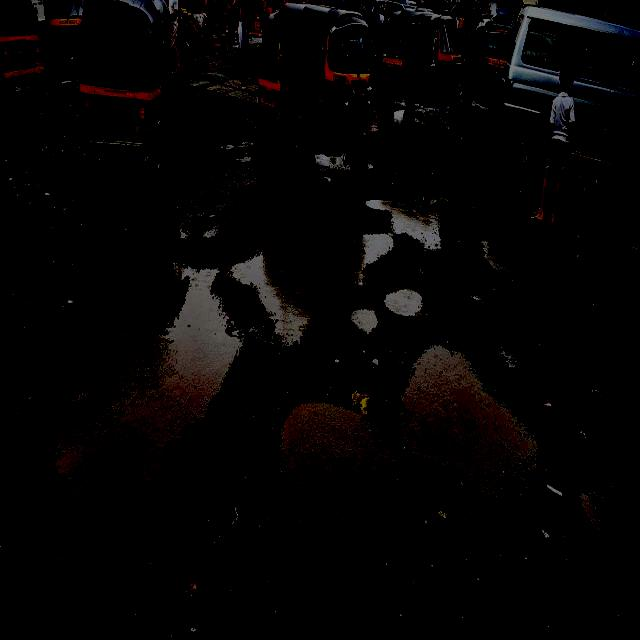Pothole: (17, 192, 557, 640)
